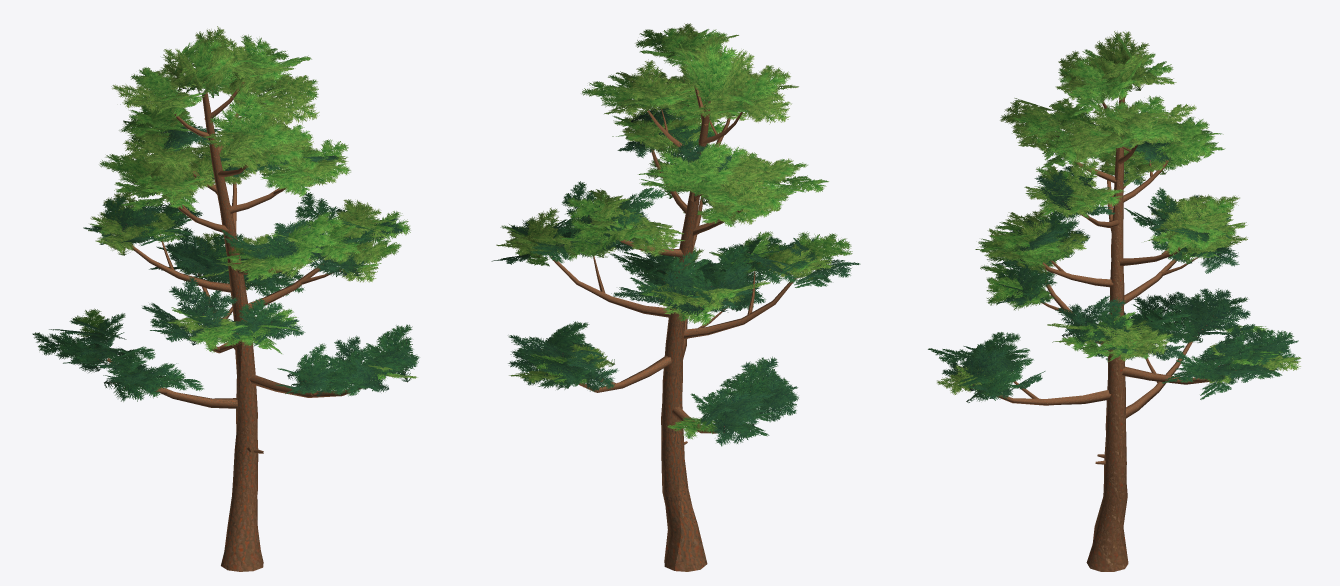
Rendered from kiefer-2.glb.
3 views of the same model, side by side, from view 1: azimuth 30°, elevation 25°; view 2: azimuth 150°, elevation 25°; view 3: azimuth 270°, elevation 25° (orthographic). The views are drawn at different scales.
Visible parts, largest first — view 1: kiefer-2; view 2: kiefer-2; view 3: kiefer-2.
Boxes of the visible parts, box(x1,y1,x2,y2) form: kiefer-2: box(32, 26, 419, 571); kiefer-2: box(491, 23, 860, 571); kiefer-2: box(928, 31, 1301, 571).
Size of the model in its own units: 8.2 by 11.9 by 8.52.
2 materials, 2 textured.
